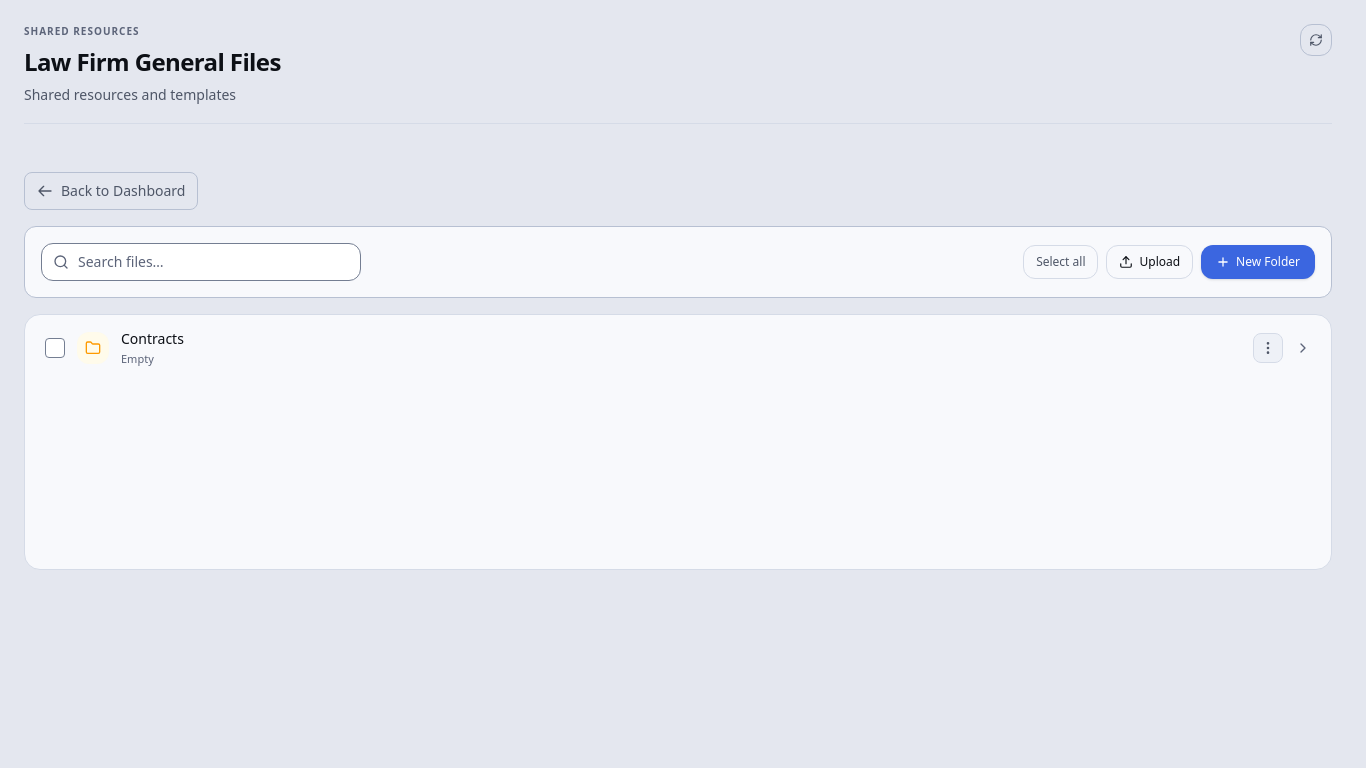
it: browser history after a Back/Forward or an incoming folder link › keeps updating the URL after a ?folderId= link to a folder that no longer resolves
The width and height of the screenshot is (1366, 768).
Click the text "Contracts": x=152, y=339 [121, 329, 184, 349]
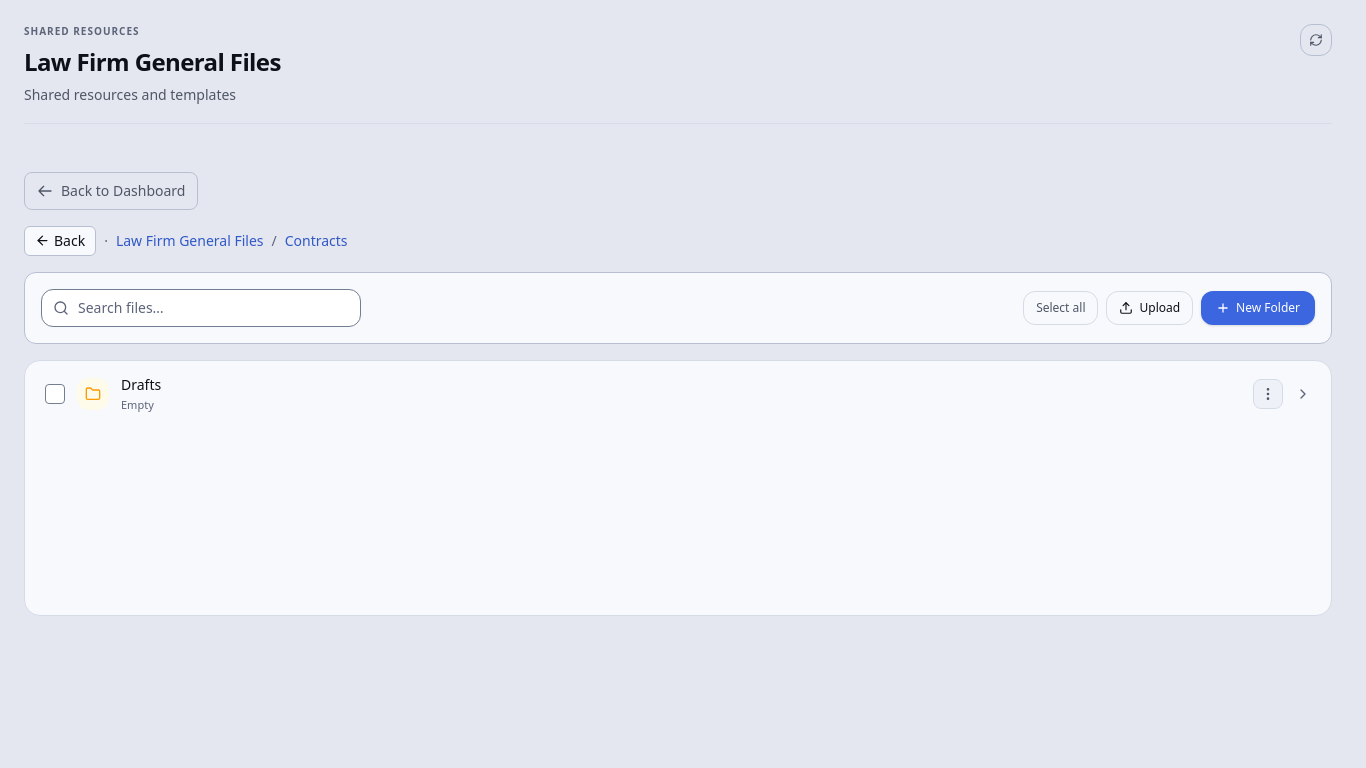
Now the text "Drafts" is shown, box [121, 375, 161, 395]
